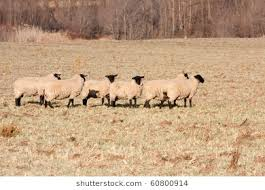sheep: (13, 72, 61, 110), (40, 73, 86, 110), (144, 73, 189, 108), (164, 73, 204, 108), (81, 74, 118, 106), (110, 75, 146, 107)
